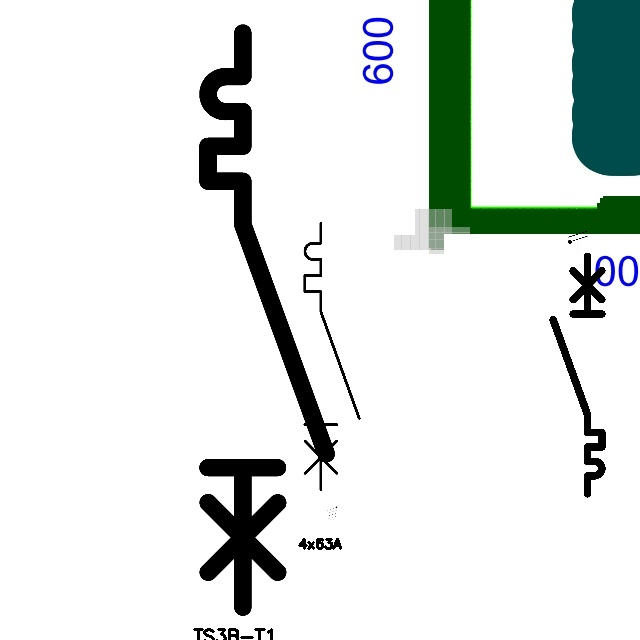interruptor_termomagnetico: (193, 18, 341, 621), (298, 216, 366, 496), (547, 250, 608, 500)
